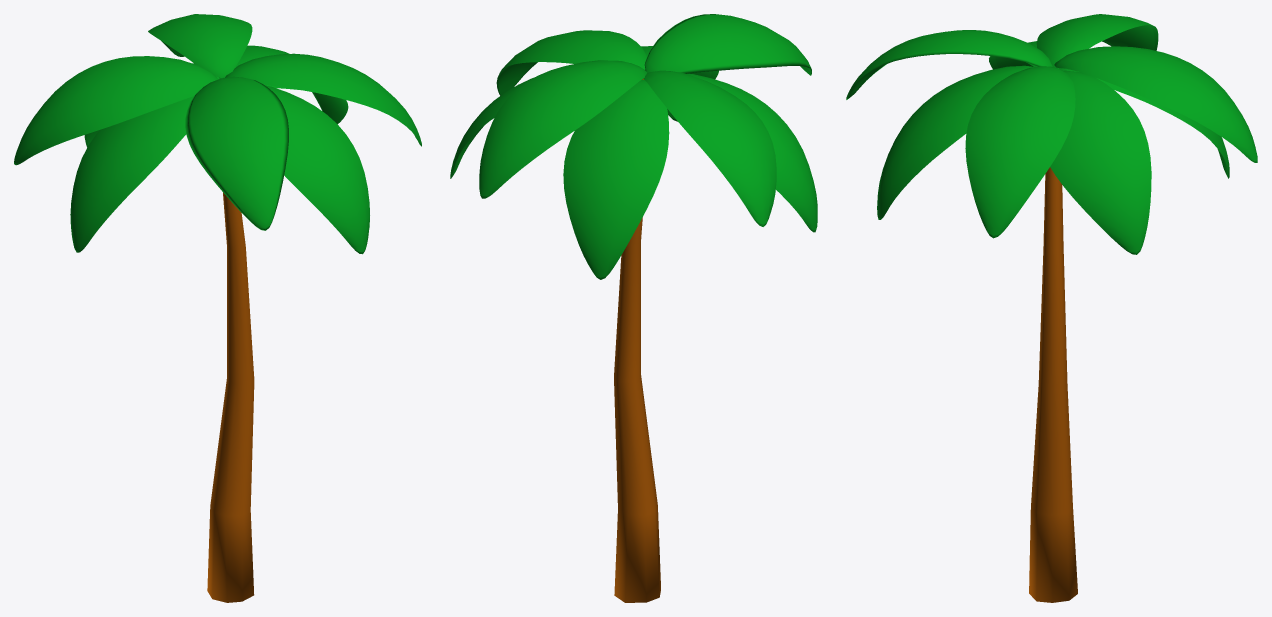
The model's file is PalmTree1.fbx.
3 views of the same model, side by side, from view 1: azimuth 30°, elevation 25°; view 2: azimuth 150°, elevation 25°; view 3: azimuth 270°, elevation 25° (orthographic).
Parts seen in each view (by area): view 1: PalmTree1; view 2: PalmTree1; view 3: PalmTree1.
Part boxes in pixels (x1=…): PalmTree1: x1=14, y1=14, x2=421, y2=602; PalmTree1: x1=450, y1=14, x2=817, y2=602; PalmTree1: x1=846, y1=14, x2=1257, y2=602.
Size of the model in its own units: 7.96 by 8.39 by 12.27.
